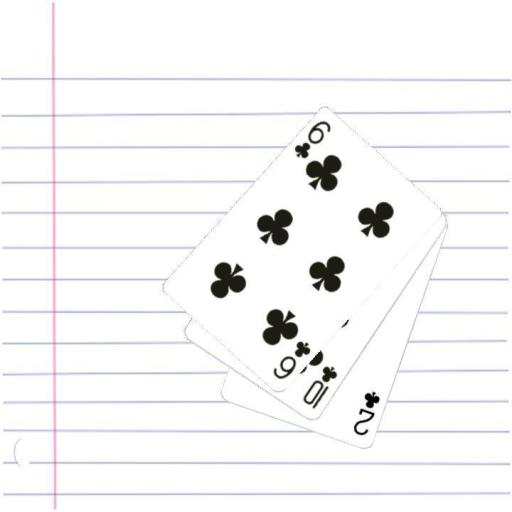card-corner: (300, 363, 340, 411), (270, 338, 312, 382), (291, 118, 333, 161), (350, 388, 382, 438)
